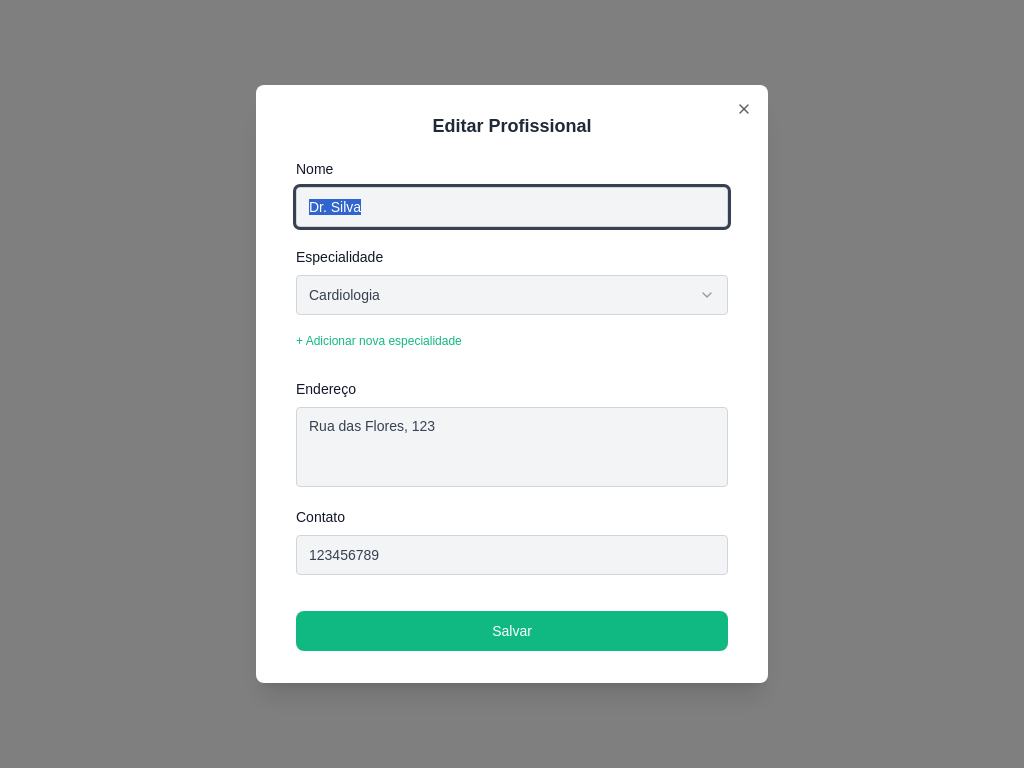
Test: EditProfessionalModal › allows changing specialty
The image size is (1024, 768).
Abre o select para garantir que as opções estejam no DOM
Step 1. Click the dropdown → (344, 295), box [296,275,728,315]
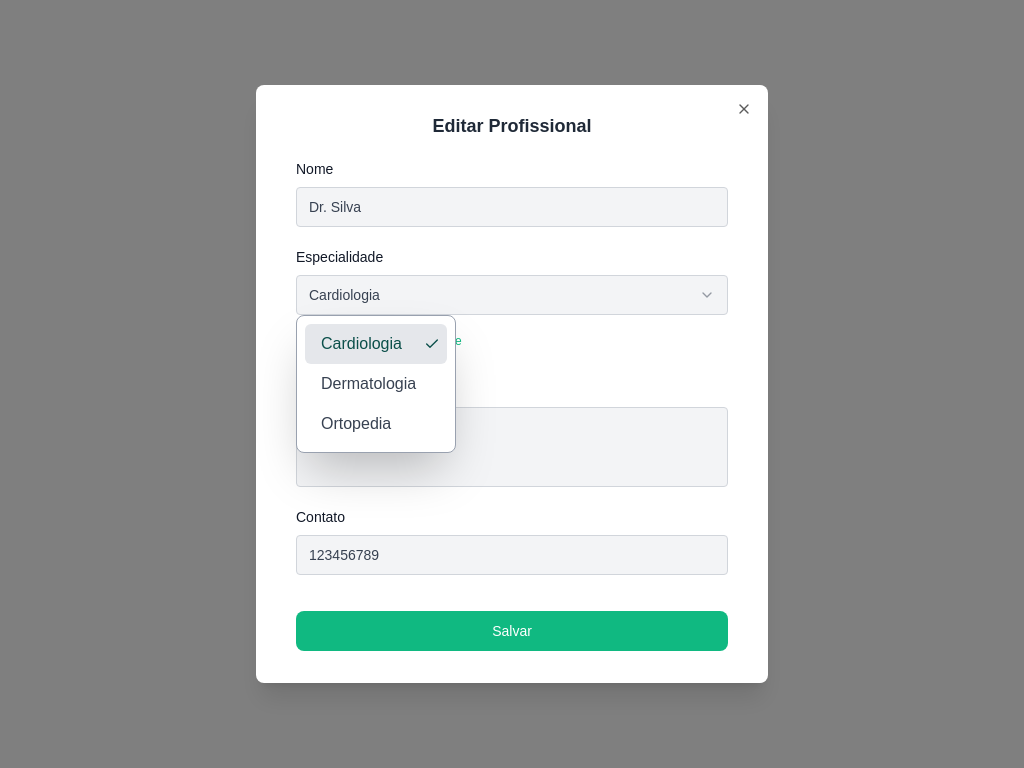
Check: the text "Dermatologia" is shown, box [321,372,416,396]
Step 2. Click the option "Dermatologia" → (376, 384), box [305,364,447,404]
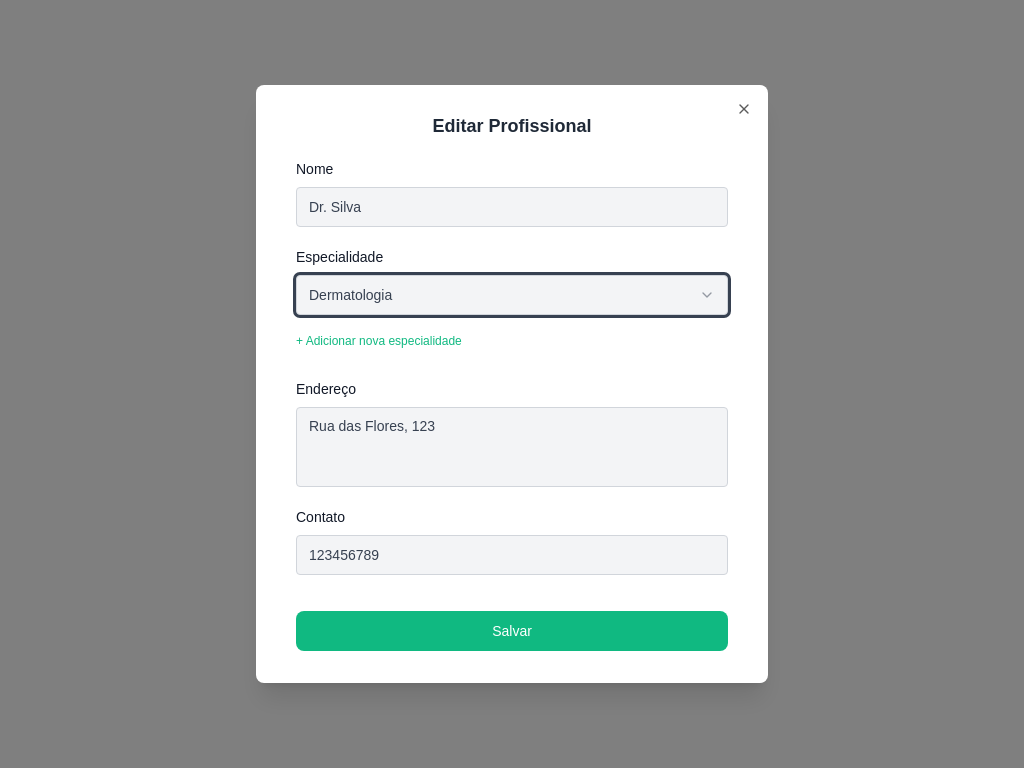
Check: the dropdown reads "Dermatologia", box [296,275,728,315]
